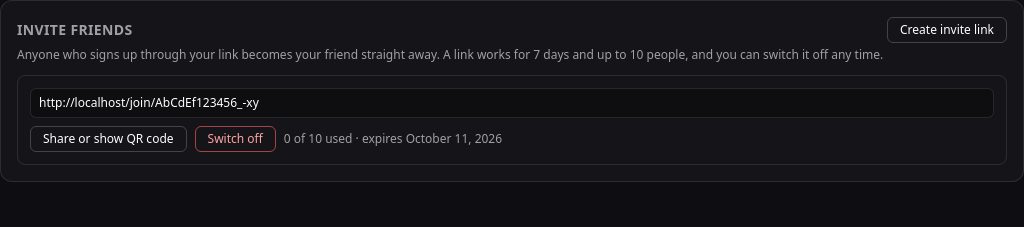
Test: InviteFriends › keeps the link when it can't be switched off
Click the button "Switch off": (235, 139) x1=194 y1=126 x2=276 y2=152
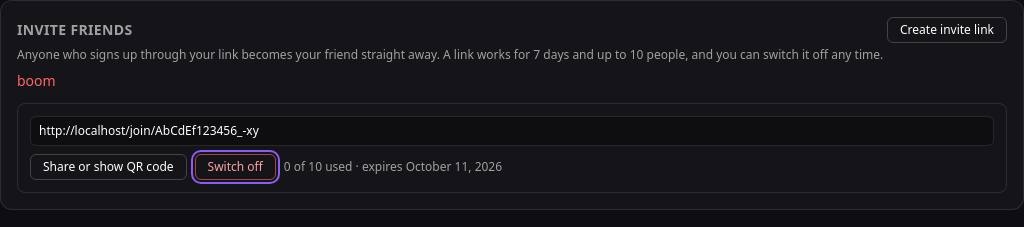
Expected: the field named "Invite link" is shown, x1=30 y1=116 x2=994 y2=146
Result: the message reads "boom" at x1=17 y1=71 x2=56 y2=90
